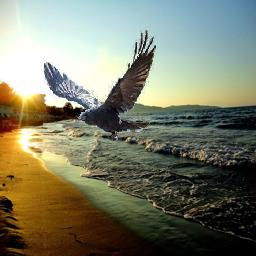Crow: (42, 29, 156, 142)
